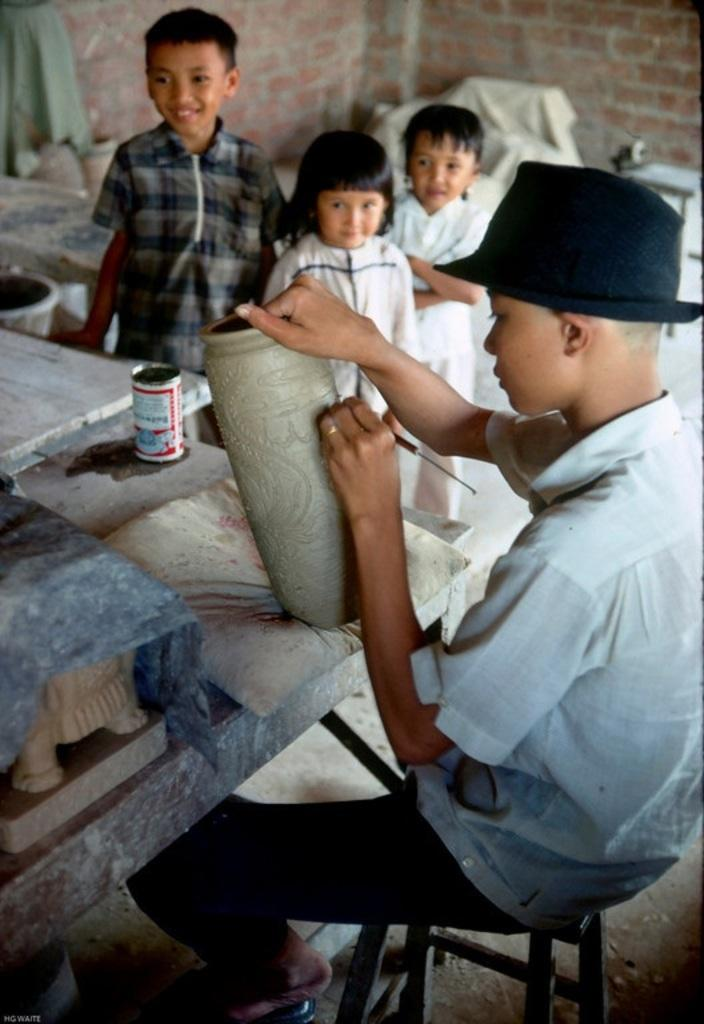Hat: (426, 157, 702, 324)
